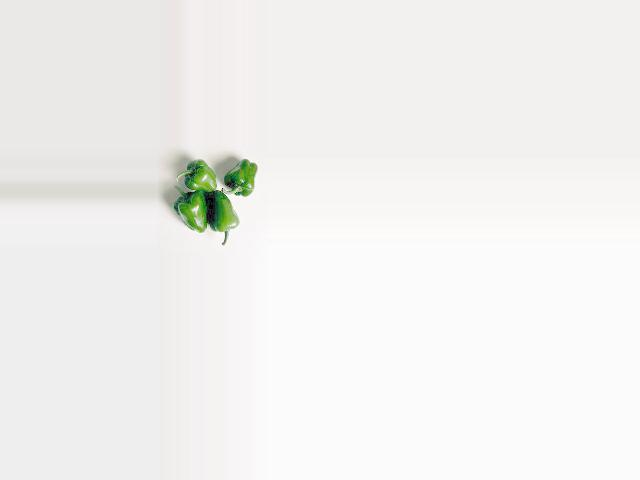bell_pepper: (177, 159, 219, 189)
